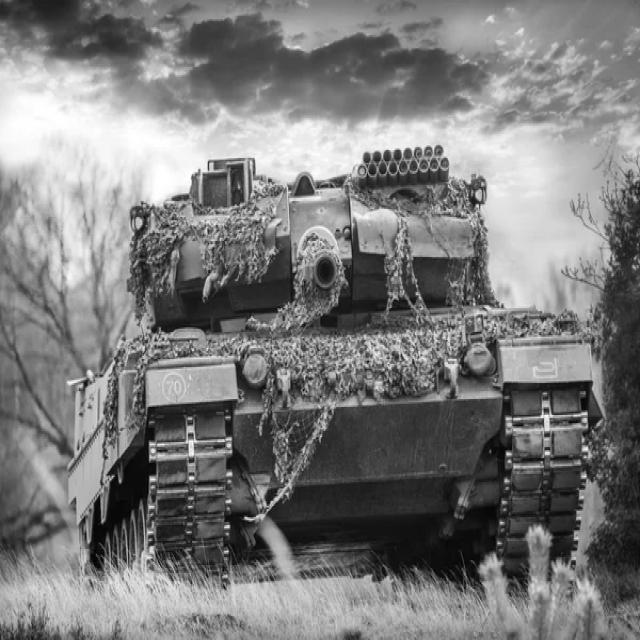Tank: (68, 132, 602, 584)
